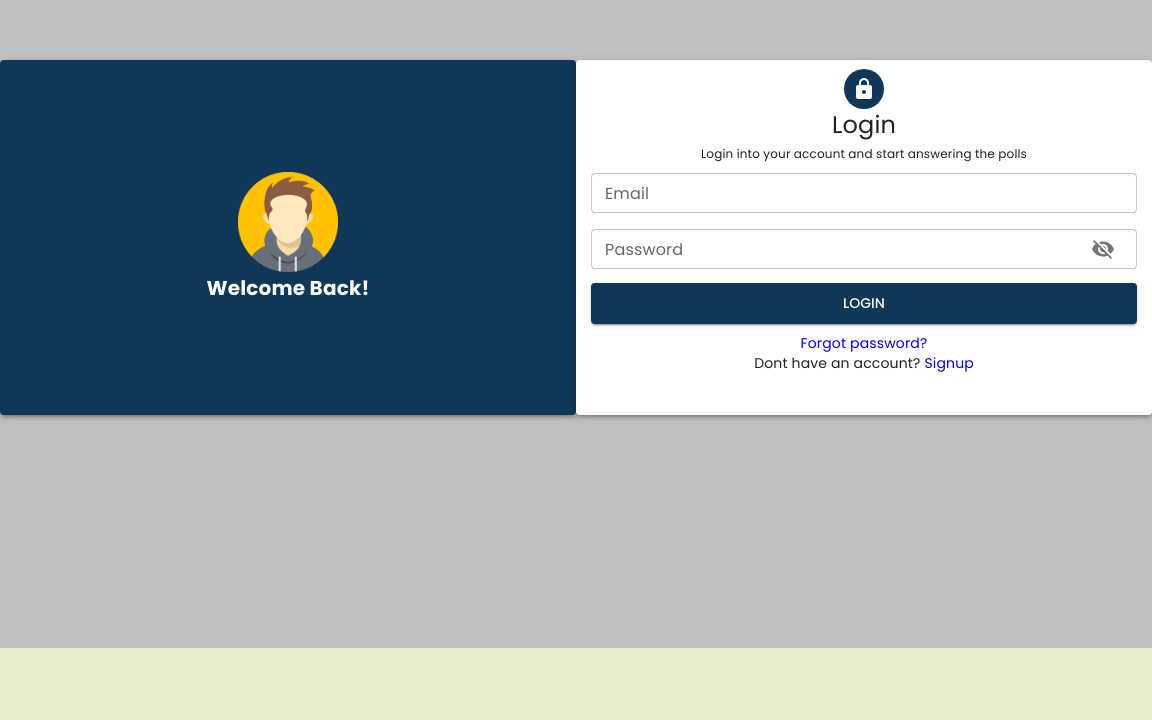
Scenario: Test Login Page › Should display incorrect password message on entering wrong password
This screenshot has width=1152, height=720.
In the field with placeholder "Enter your Email": (864, 193) [591, 173, 1137, 213], type "dcgythfvujyfcjvmh@gmail.com"
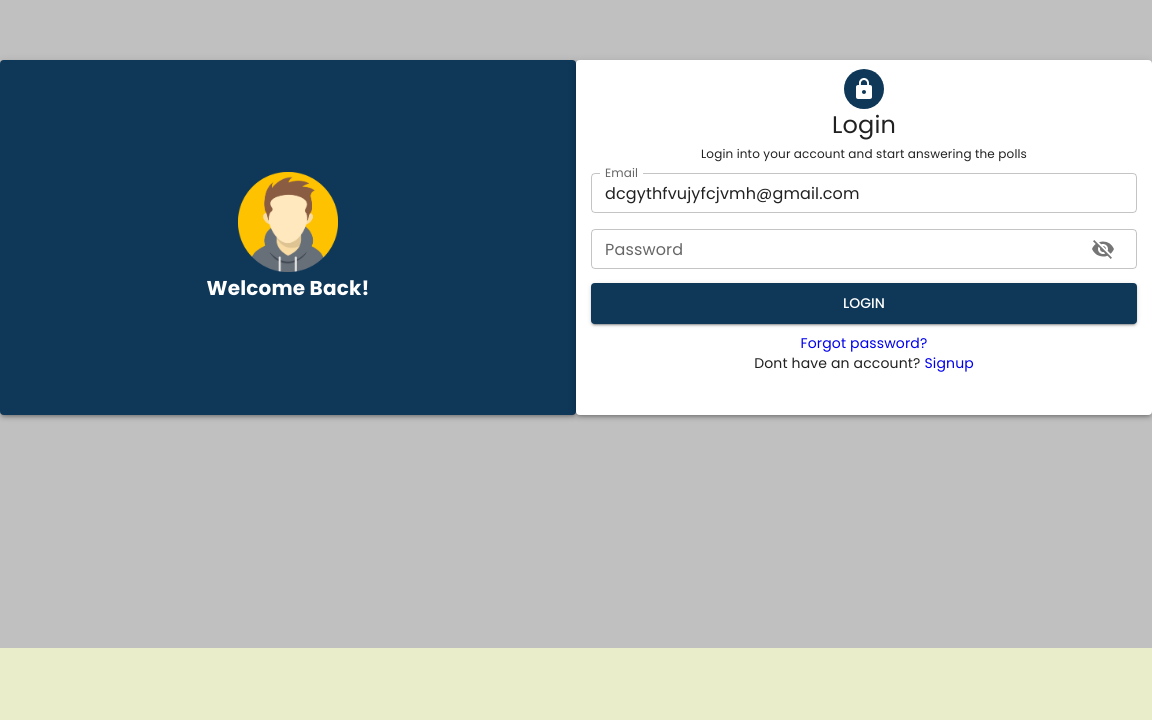
In the password field with placeholder "Enter your Password": (833, 249) [591, 229, 1075, 269], type "Hel@1234"
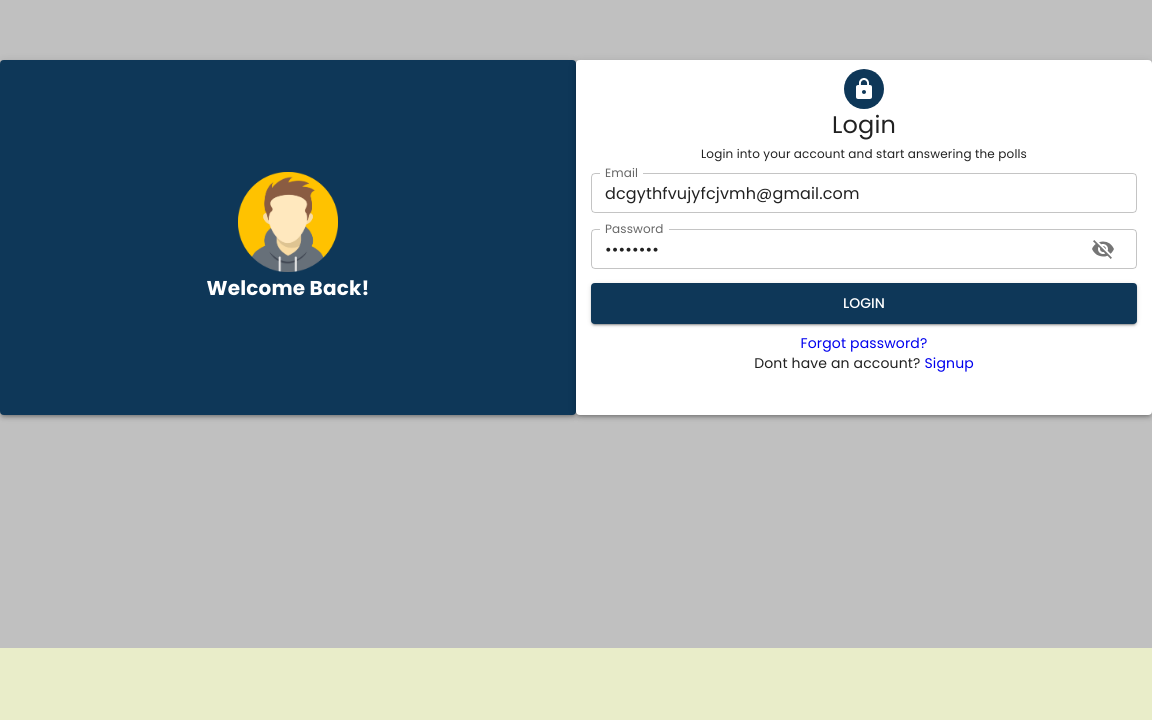
Click the button "Login": (864, 304) [591, 283, 1137, 324]
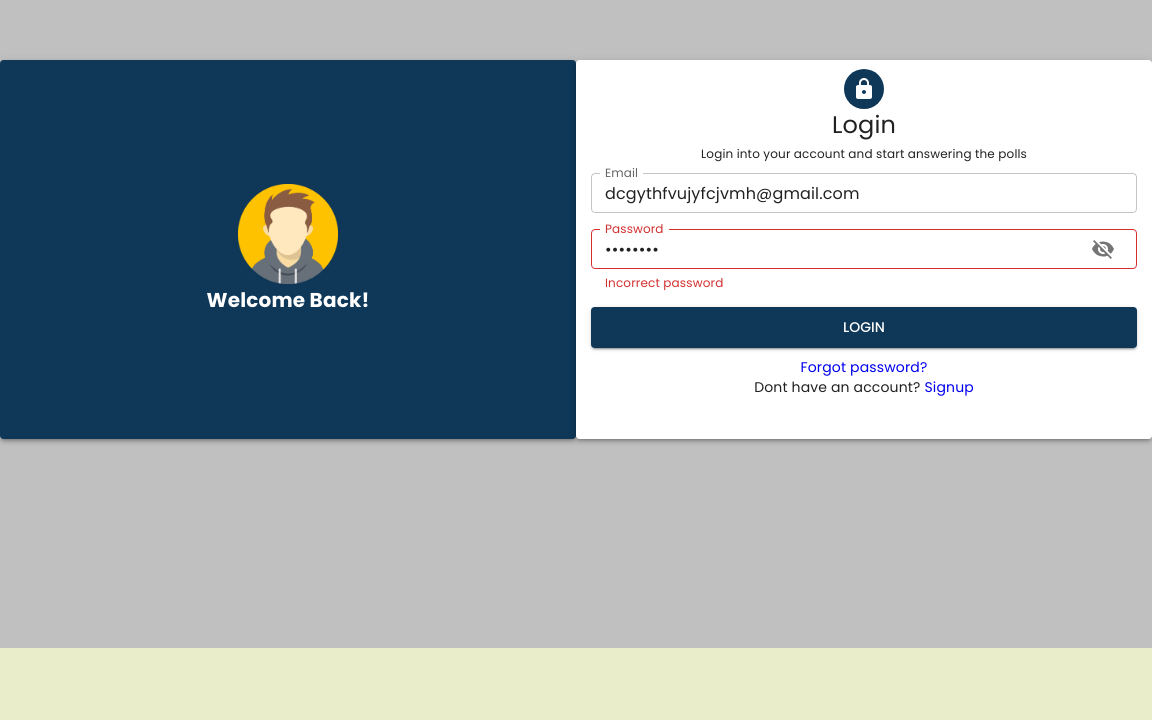
Expected: the text "Incorrect password" is shown, [605, 274, 723, 291]
